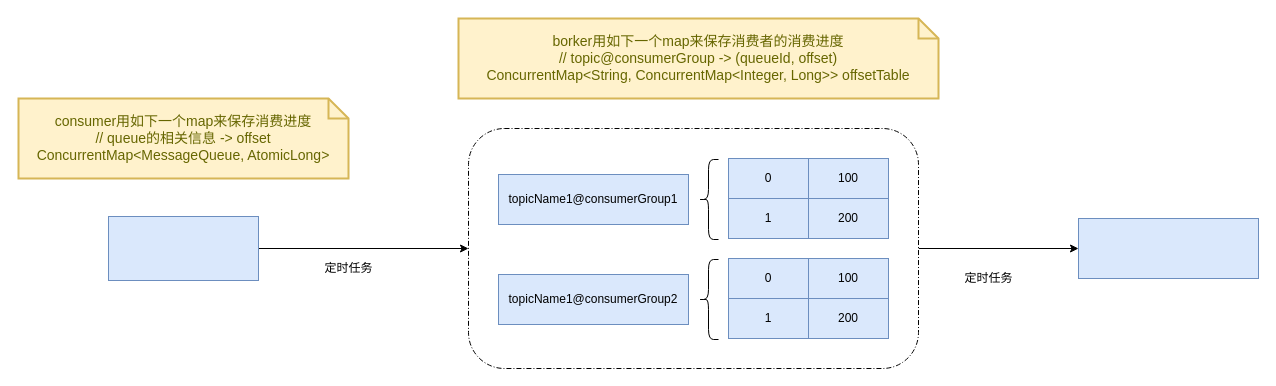
Image size: 1276x386. Some labels were removed from this diagram. The shapes that lost their labels are listed below. From the top down, each one's box as (x1, y1, x2, y2) in pixels, then its label:
(108, 216, 258, 280): consumer消费完消息会将消费进度存到map中
(1078, 218, 1258, 278): 将map持久化到consumerOffset.json
